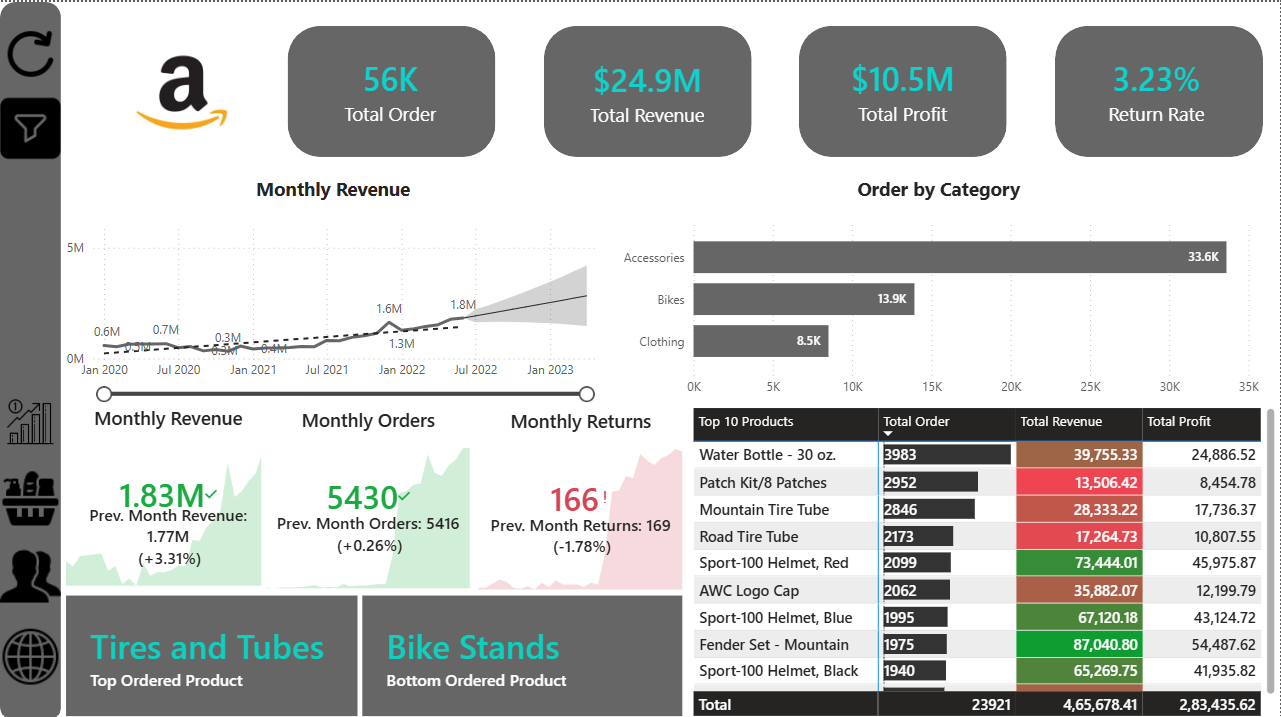

The page's visual inventory and layout, read from the dashboard file:
{"tool":"powerbi","page":{"name":"Executive","canvas":[1280,720],"ordinal":1},"visuals":[{"type":"shape","box":[0,0,61.1,720.2],"z":0,"group":"g2"},{"type":"image","box":[88.8,16.2,187.1,150.4],"z":0},{"type":"shape","box":[287.1,24.3,208,131.3],"z":0,"group":"g1"},{"type":"group","id":"g1","title":"KPI GROUP","box":[287.1,24.3,975.7,131.4],"z":1000},{"type":"cardVisual","fields":{"Data":["Measure.Total Order"]},"box":[301.1,33.3,178.7,113.1],"z":1000,"group":"g1"},{"type":"image","box":[0,374.2,61.1,95.4],"z":1000,"group":"g2"},{"type":"group","id":"g2","title":"Left Bar","box":[0,0,61.1,720.2],"z":2000},{"type":"shape","box":[1054.1,24.3,208,131.3],"z":2000,"group":"g1"},{"type":"image","box":[0,607.7,61.1,94.2],"z":2000,"group":"g2"},{"type":"shape","box":[798.4,24.3,208,131.3],"z":3000,"group":"g1"},{"type":"barChart","title":"Order by Category","fields":{"Category":["Product Categories.CategoryName"],"Y":["Measure.Total Order"]},"box":[613.8,173.8,650,228.8],"z":3000},{"type":"image","box":[0,527,61.1,91.7],"z":3000,"group":"g2"},{"type":"shape","box":[542.8,24.3,208,131.3],"z":4000,"group":"g1"},{"type":"lineChart","title":"Monthly Revenue","fields":{"Y":["Measure.Total Revenue"],"Category":["Calendar.START_OF_MONTH.Variation.Date Hierarchy.Year","Calendar.START_OF_MONTH.Variation.Date Hierarchy.Quarter","Calendar.START_OF_MONTH.Variation.Date Hierarchy.Month","Calendar.START_OF_MONTH.Variation.Date Hierarchy.Day"]},"box":[61.2,173.8,543.8,228.8],"z":4000},{"type":"image","box":[0,450,61.1,95.4],"z":4000,"group":"g2"},{"type":"image","box":[0,0,61.1,103.9],"z":5000,"group":"g2"},{"type":"cardVisual","fields":{"Data":["Measure.Total Profit"]},"box":[812.9,33.3,178.7,113.1],"z":5000,"group":"g1"},{"type":"pivotTable","fields":{"Rows":["Product.ProductName"],"Values":["Measure.Total Order","Measure.Total Revenue","Measure.Total Profit"]},"box":[688.8,401.2,591.2,318.8],"z":5000},{"type":"cardVisual","fields":{"Data":["Measure.Return Rate"]},"box":[1066.9,32.8,178.7,113.1],"z":6000,"group":"g1"},{"type":"image","box":[0,78.3,61.1,95.4],"z":6000,"group":"g2"},{"type":"kpi","title":"Monthly Revenue","fields":{"Indicator":["Measure.Total Revenue"],"Goal":["Measure.Previous Month Revenue"],"TrendLine":["Calendar.START_OF_MONTH"]},"box":[61.2,402.5,213.8,186.2],"z":6000},{"type":"cardVisual","fields":{"Data":["Measure.Total Revenue"]},"box":[551.3,34.5,192.7,113.1],"z":7000,"group":"g1"},{"type":"kpi","title":"Monthly Orders","fields":{"TrendLine":["Calendar.START_OF_MONTH"],"Indicator":["Measure.Total Order"],"Goal":["Measure.Previous Month ORDERS"]},"box":[261.2,405,213.8,186.2],"z":7000},{"type":"kpi","title":"Monthly Returns","fields":{"TrendLine":["Calendar.START_OF_MONTH"],"Indicator":["Measure.Total Returns"],"Goal":["Measure.Previous Month Returns"]},"box":[473.8,406.2,213.8,186.2],"z":8000},{"type":"cardVisual","fields":{"Data":["Min(Product Subcategories.SubcategoryName)"]},"box":[61.2,588.8,330,131.2],"z":9000},{"type":"cardVisual","fields":{"Data":["Min(Product Subcategories.SubcategoryName)"]},"box":[357.5,588.8,330,131.2],"z":10000},{"type":"textbox","box":[61.2,226.2,187.5,77.5],"z":12000}]}

Visuals, with their boxes on the page's 1280x720 design canvas (x1, y1, x2, y2). These are canvas units, not pixel positions in the 1281x717 screenshot, which may show the page scaled, cropped or inside an application window:
shape: bbox=(0, 0, 61, 720)
image: bbox=(89, 16, 276, 167)
shape: bbox=(287, 24, 495, 156)
"KPI GROUP" group: bbox=(287, 24, 1263, 156)
cardVisual - Measure.Total Order: bbox=(301, 33, 480, 146)
image: bbox=(0, 374, 61, 470)
"Left Bar" group: bbox=(0, 0, 61, 720)
shape: bbox=(1054, 24, 1262, 156)
image: bbox=(0, 608, 61, 702)
shape: bbox=(798, 24, 1006, 156)
"Order by Category" barChart: bbox=(614, 174, 1264, 403)
image: bbox=(0, 527, 61, 619)
shape: bbox=(543, 24, 751, 156)
"Monthly Revenue" lineChart: bbox=(61, 174, 605, 403)
image: bbox=(0, 450, 61, 545)
image: bbox=(0, 0, 61, 104)
cardVisual - Measure.Total Profit: bbox=(813, 33, 992, 146)
pivotTable - Product.ProductName x Measure.Total Order: bbox=(689, 401, 1280, 720)
cardVisual - Measure.Return Rate: bbox=(1067, 33, 1246, 146)
image: bbox=(0, 78, 61, 174)
"Monthly Revenue" kpi: bbox=(61, 402, 275, 589)
cardVisual - Measure.Total Revenue: bbox=(551, 34, 744, 148)
"Monthly Orders" kpi: bbox=(261, 405, 475, 591)
"Monthly Returns" kpi: bbox=(474, 406, 688, 592)
cardVisual - Min(Product Subcategories.SubcategoryName): bbox=(61, 589, 391, 720)
cardVisual - Min(Product Subcategories.SubcategoryName): bbox=(358, 589, 688, 720)
textbox: bbox=(61, 226, 249, 304)
